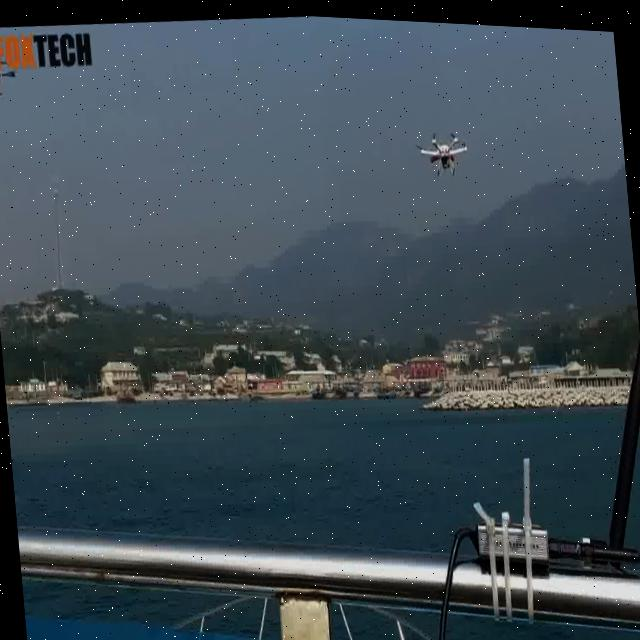drone: (416, 122, 475, 182)
